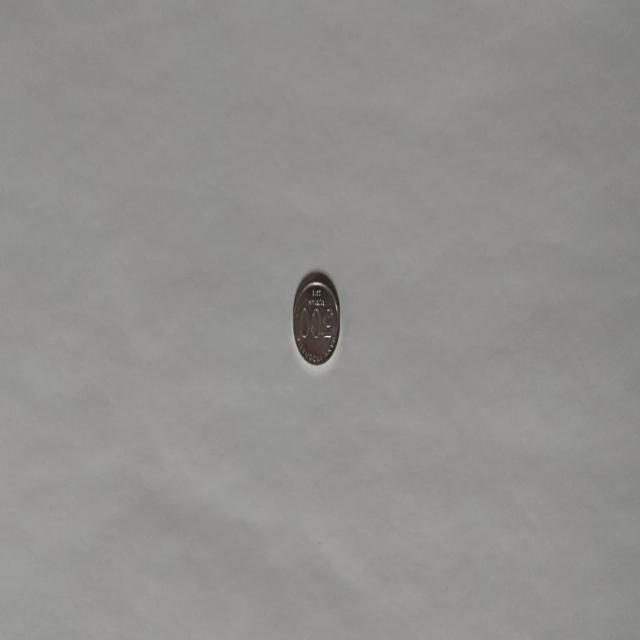lima ratus rupiah: (292, 270, 341, 367)
